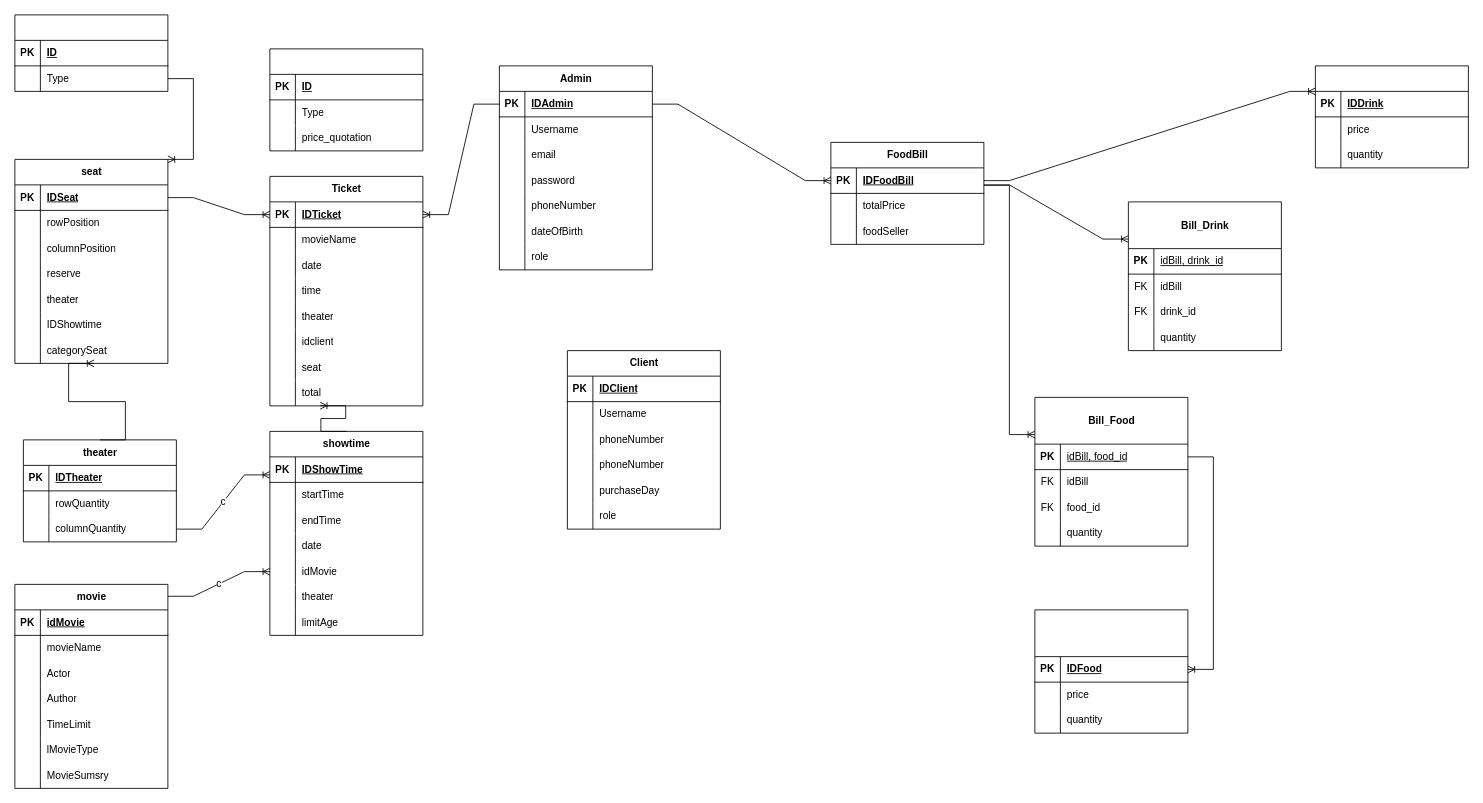
This 1483x803 diagram has some shape labels left out. Here are the shapes that lost their labels. From the top down, the box of each, then its label:
(14, 14, 168, 91): seatType
(269, 48, 423, 151): TicketPrice
(1315, 65, 1468, 168): DrinkDetail
(1034, 609, 1188, 733): FoodDetail
